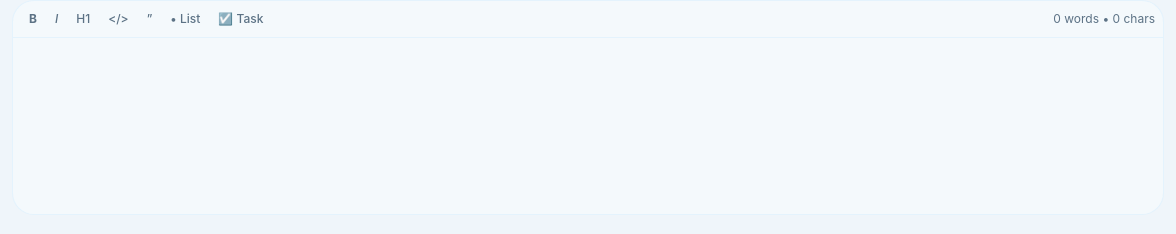
Test: MarkdownEditor › italic button inserts a placeholder when nothing is selected
Click the button named "Italic". click: (57, 19)
box: [47, 7, 66, 31]
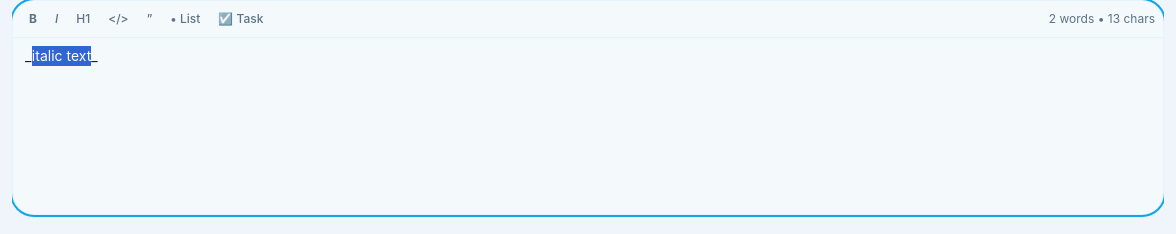
Now the text box named "Note" holds "_italic text_"
